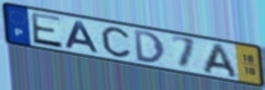7: (168, 33, 198, 70)
A: (201, 42, 240, 80), (64, 20, 102, 55)
C: (100, 26, 132, 60)
D: (132, 28, 167, 65)
E: (29, 11, 65, 50)
